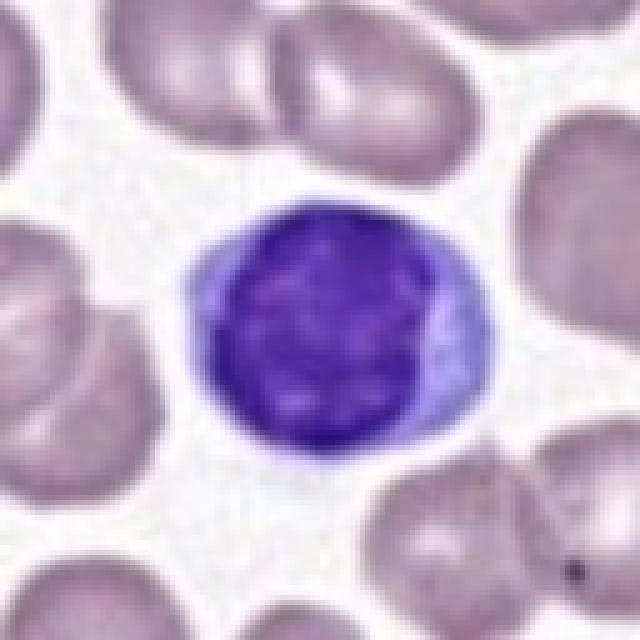lympho: (180, 189, 499, 467)
